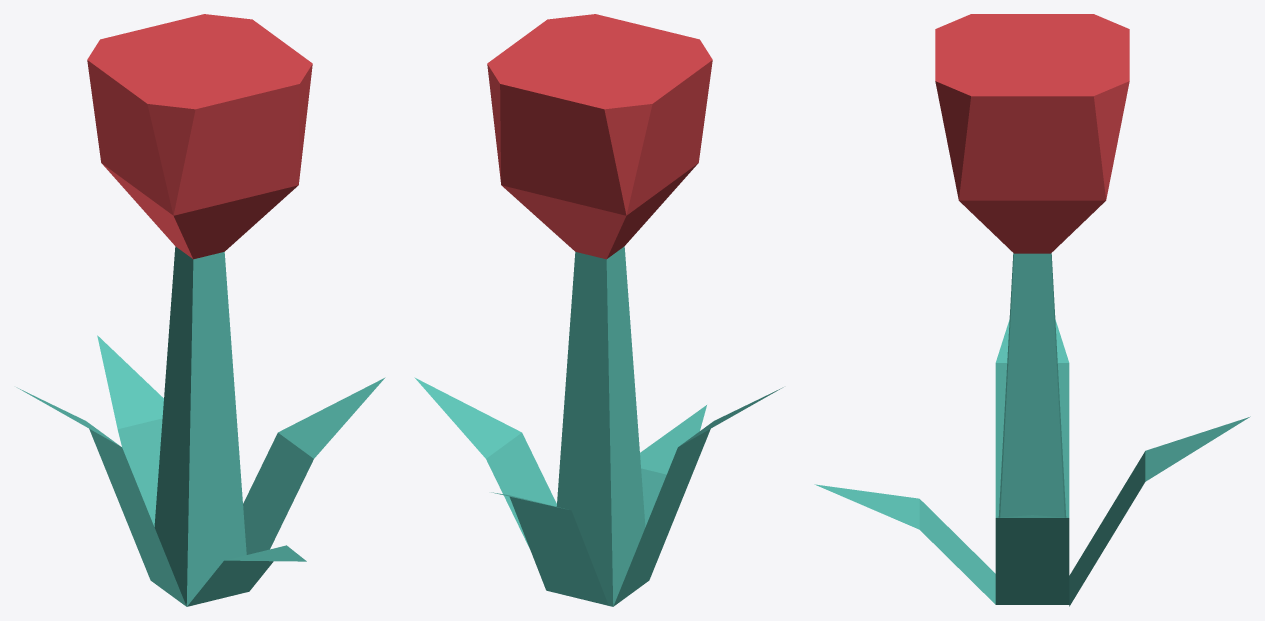
File: flower_red1.fbx
3 views of the same model, side by side, from view 1: azimuth 30°, elevation 25°; view 2: azimuth 150°, elevation 25°; view 3: azimuth 270°, elevation 25° (orthographic).
Parts seen in each view (by area): view 1: flower_red1; view 2: flower_red1; view 3: flower_red1.
Boxes of the visible parts, x1,y1,x2,y2 form: flower_red1: (16,14,385,606); flower_red1: (414,14,783,606); flower_red1: (814,14,1250,606).
Size of the model in its own units: 2.08 by 2.8 by 2.08.
